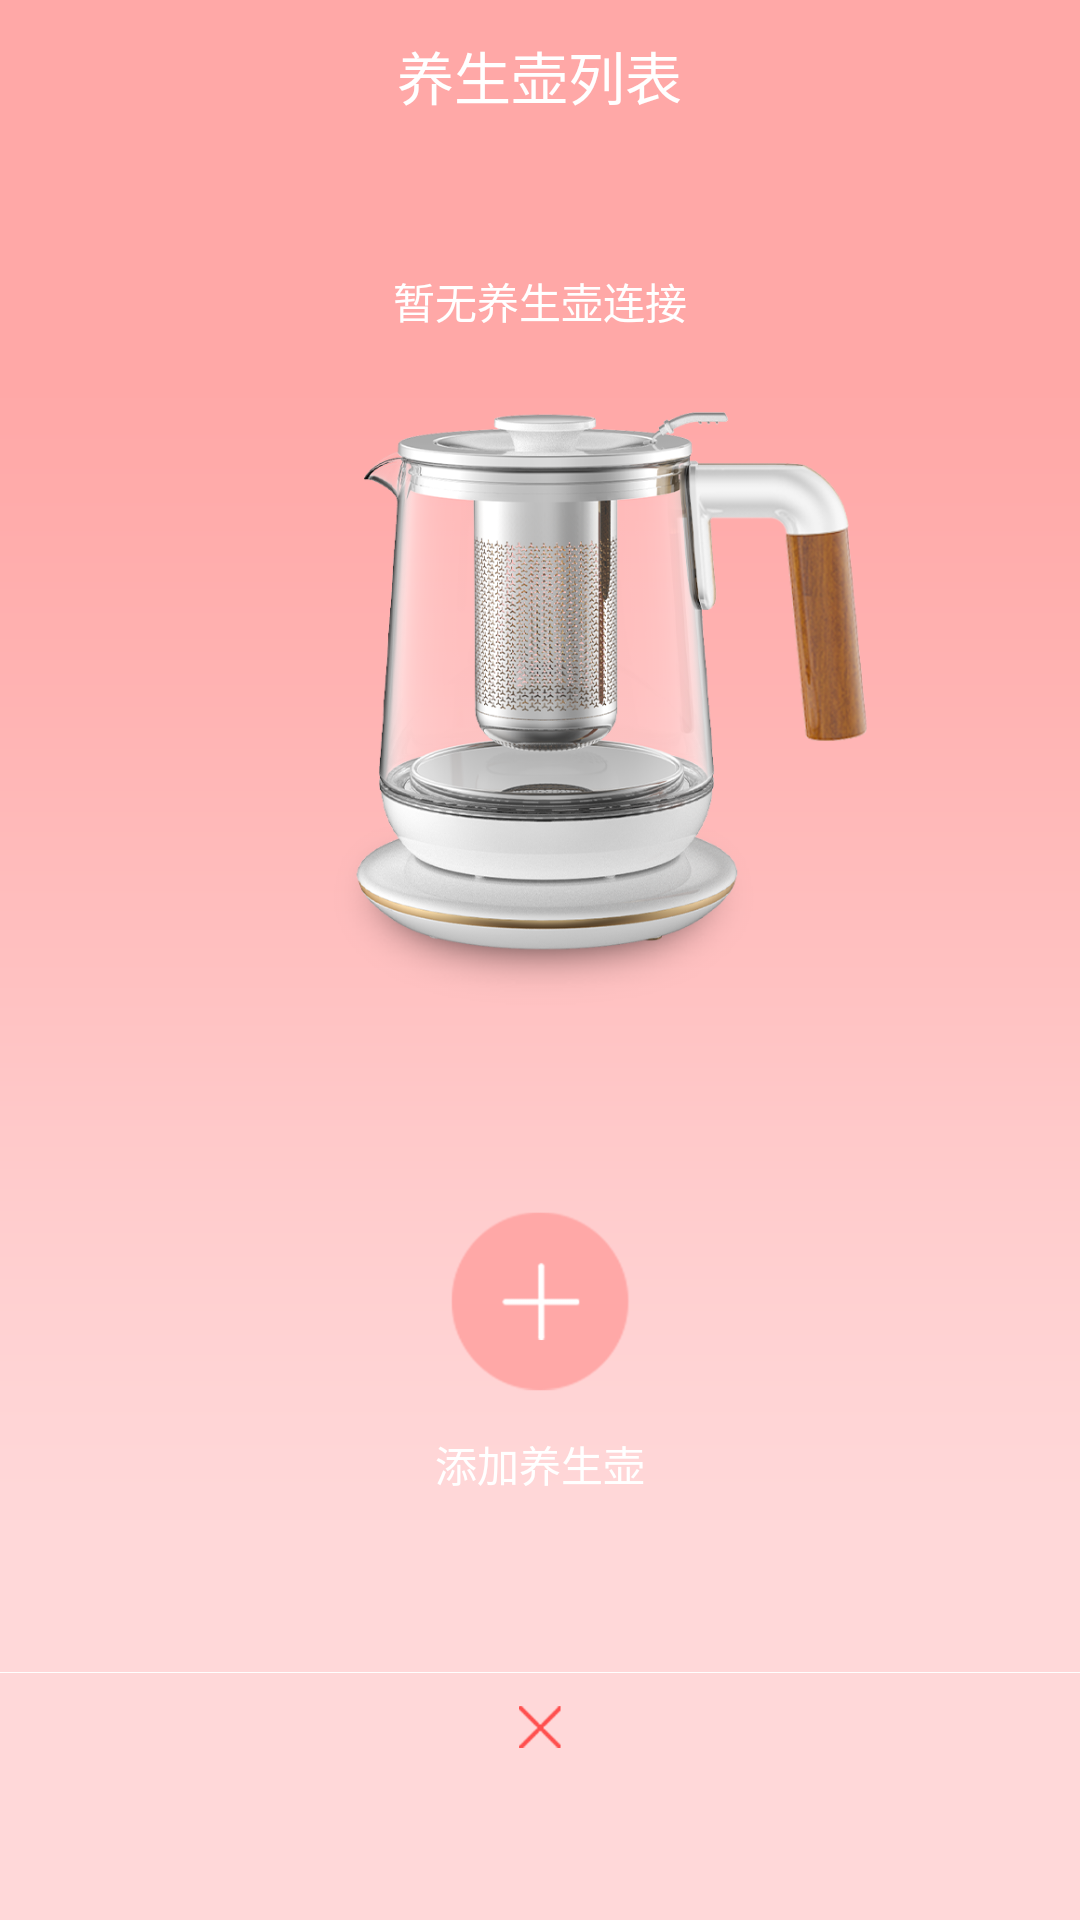

Named icons in this screenshot (1080 x 1920) and their bounding boxes, (x1, y1, x2, y2):
chahao: (519, 1706, 561, 1748)
tianjiajian: (452, 1213, 628, 1390)
